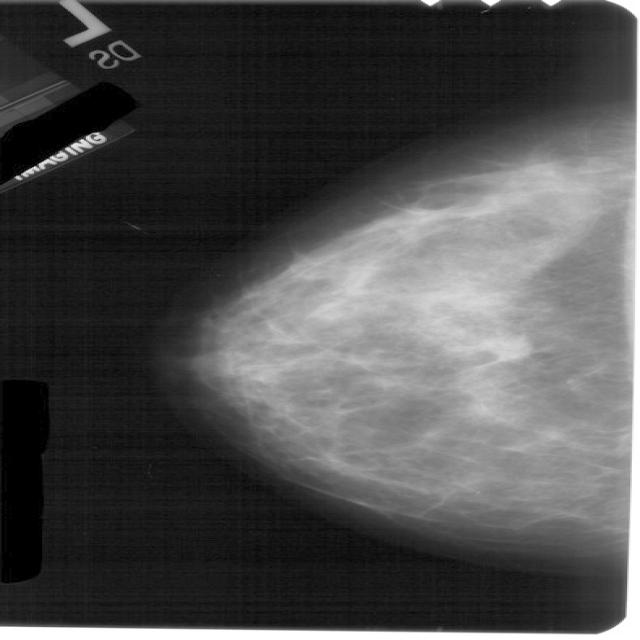tumour: (481, 334, 535, 358)
